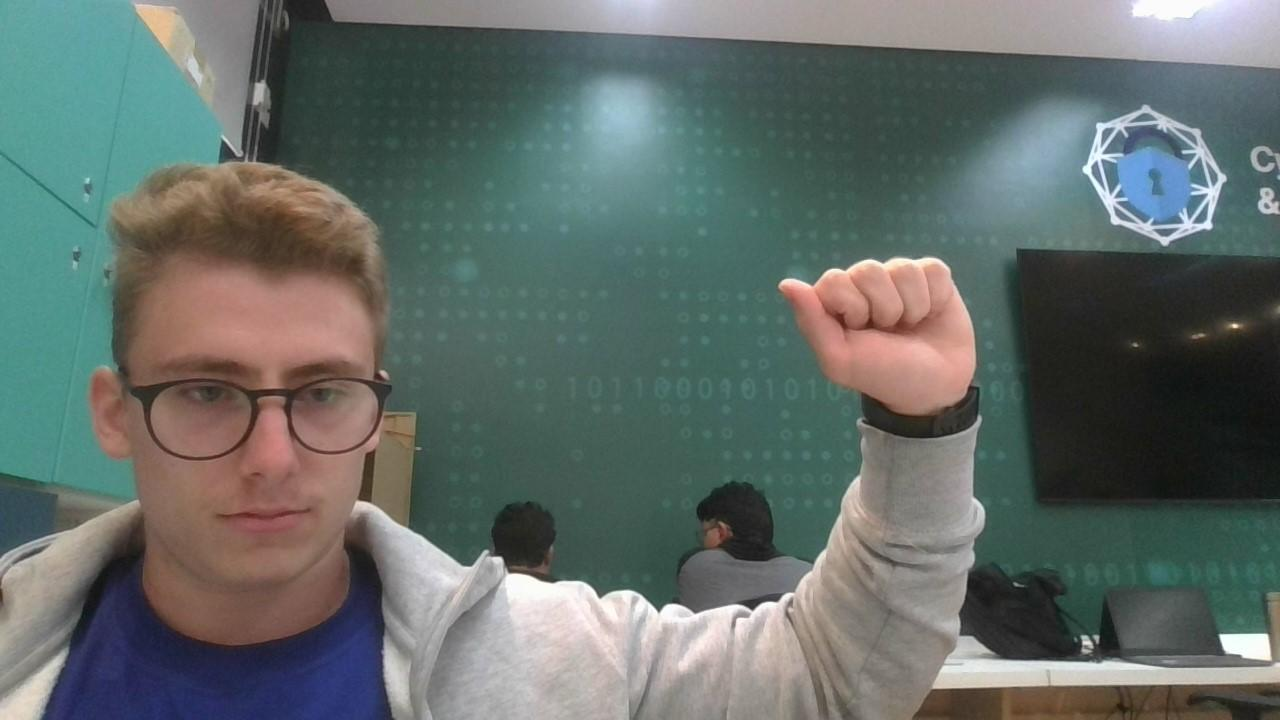A: (764, 252, 1008, 456)
